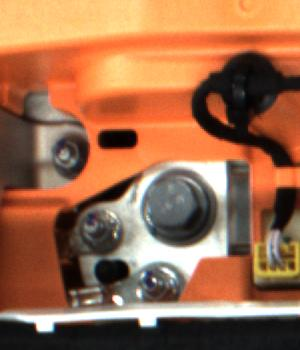nut_b: (135, 164, 222, 244)
screw_s: (39, 134, 84, 175), (74, 207, 113, 247), (134, 266, 174, 304)
